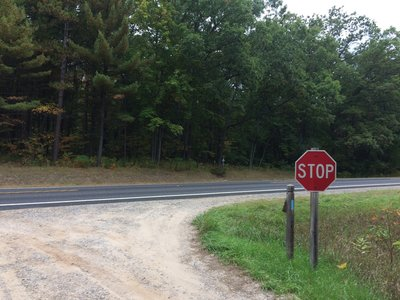stop: (296, 154, 336, 188)
